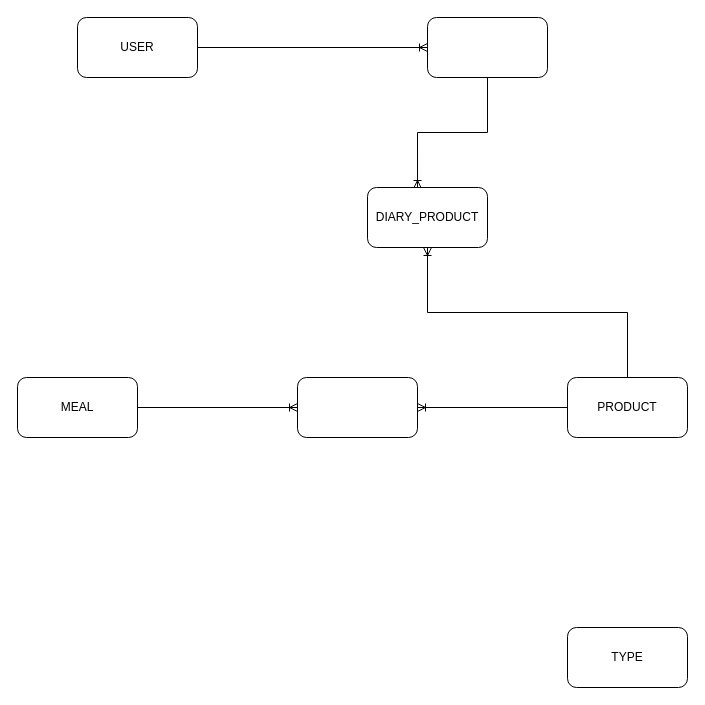
This 705x705 diagram has some shape labels left out. Each missing label, with the centre of its shape:
"DIARY" belongs at [487,47].
"MEAL_PRODUCT" belongs at [357,407].
